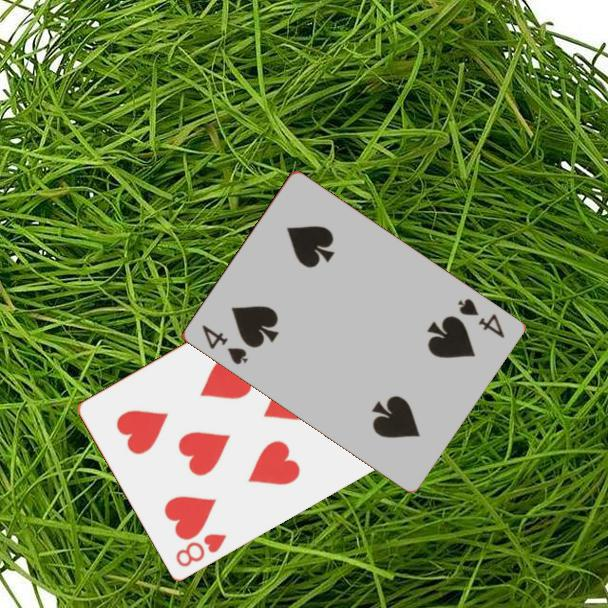h08: (172, 529, 230, 569)
s04: (198, 321, 251, 368), (453, 295, 507, 341)
